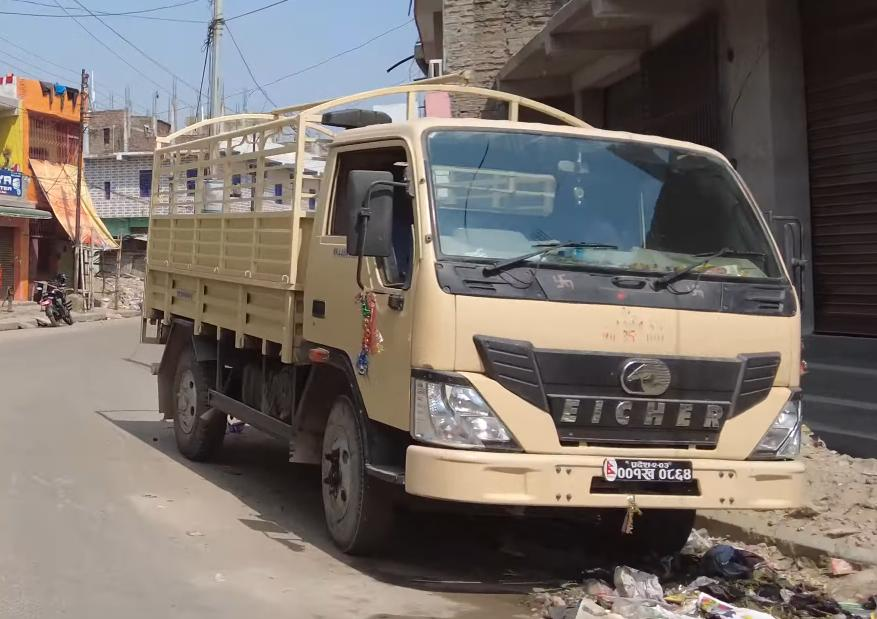bike: (35, 272, 72, 333)
mini_truck: (135, 67, 816, 568)
